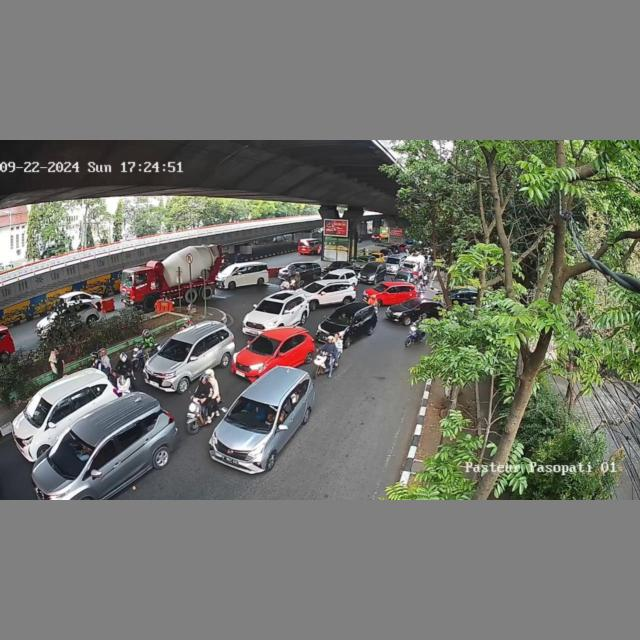windshield: (224, 397, 282, 436), (50, 430, 92, 470), (24, 394, 54, 425), (157, 340, 192, 364), (248, 334, 281, 357), (326, 308, 355, 325), (254, 299, 286, 314)
